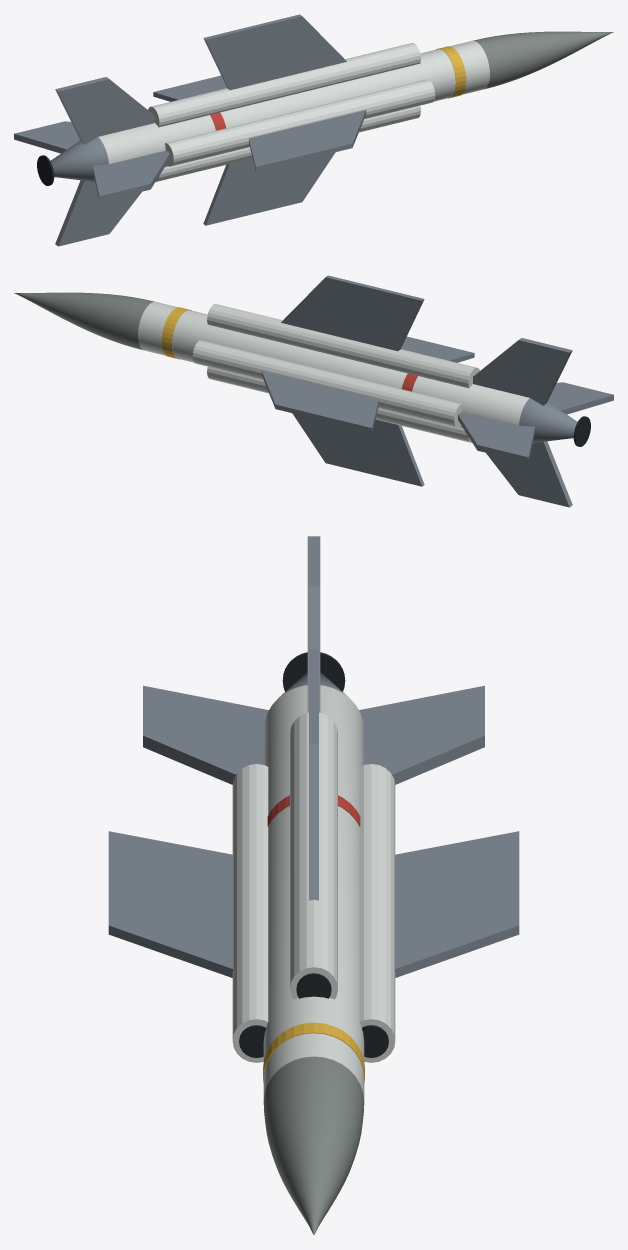
3 views of the same model, one above another, from view 1: azimuth 30°, elevation 25°; view 2: azimuth 150°, elevation 25°; view 3: azimuth 270°, elevation 25° (orthographic). The views are drawn at different scales.
Parts seen in each view (by area): view 1: kh31a; view 2: kh31a; view 3: kh31a.
Part boxes in pixels (left/top/right/bottom): kh31a: left=14, top=14, right=613, bottom=246; kh31a: left=14, top=275, right=613, bottom=507; kh31a: left=108, top=536, right=519, bottom=1234.
Size of the model in its own units: 10 by 3.12 by 3.12.
